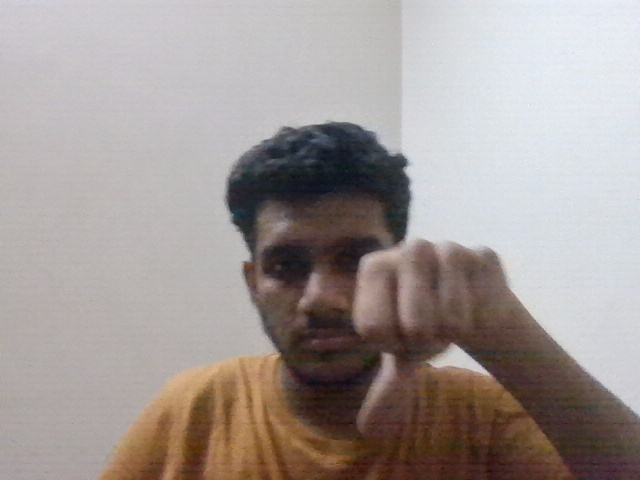yes: (340, 239, 556, 425)
